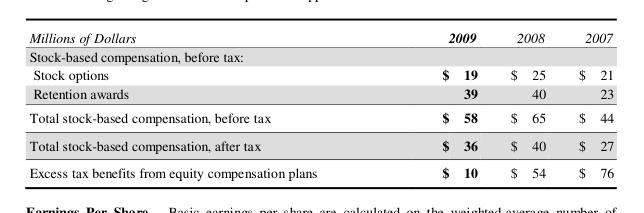table: (28, 28, 613, 182)
table column: (28, 28, 378, 182), (378, 28, 493, 182), (493, 28, 561, 182), (561, 28, 613, 182)
table column header: (28, 28, 613, 46)
table projected row header: (28, 46, 613, 64)
table row: (28, 131, 613, 158), (28, 105, 613, 131), (28, 158, 613, 182), (28, 84, 613, 105), (28, 64, 613, 84), (28, 28, 613, 46), (28, 46, 613, 64)
